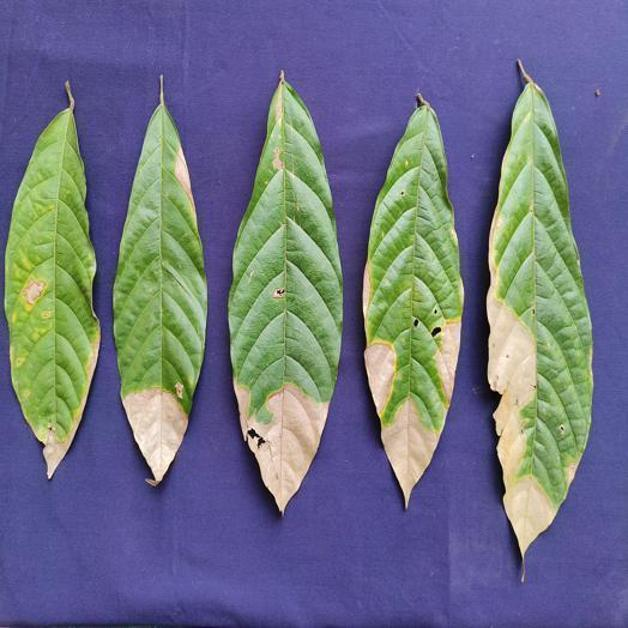Potassium: (488, 62, 592, 562), (228, 72, 342, 513), (364, 95, 463, 507), (113, 78, 207, 485), (4, 82, 99, 478)
